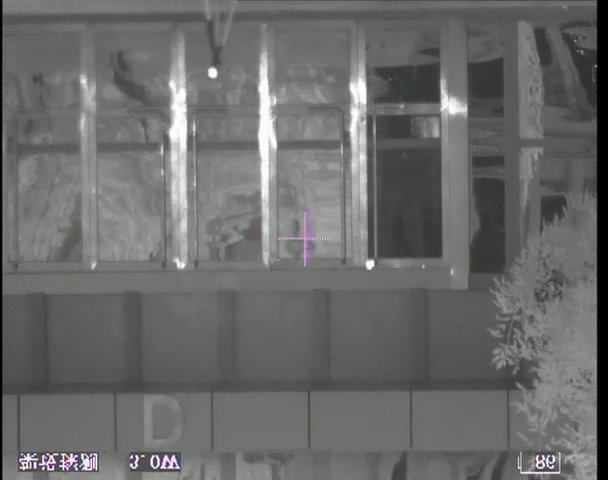my: (207, 66, 219, 79)
